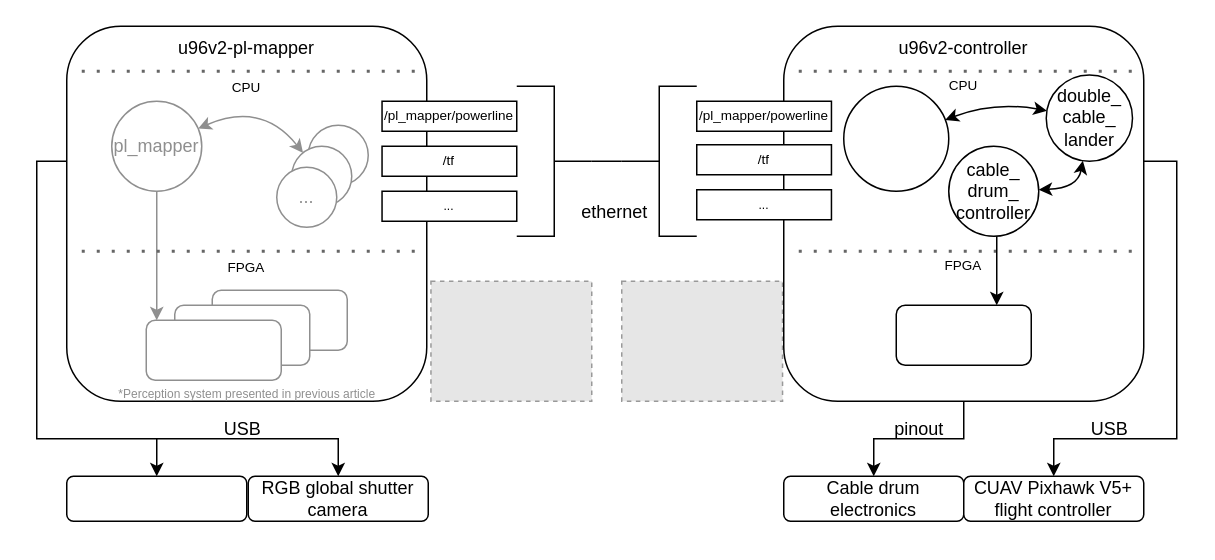
Some shapes in this 1215 by 560 pixel diagram are drawn without their labels. Grey dashed boxes stand in for pictures. Here are the shapes that lost their labels. From the top down, the centre of each, then its label:
At (895,138): "trajectory_ controller".
At (213,349): "Perception accelerators".
At (963,334): "Cable drum logic circuit".
At (156,498): "mmWave radar sensor".
